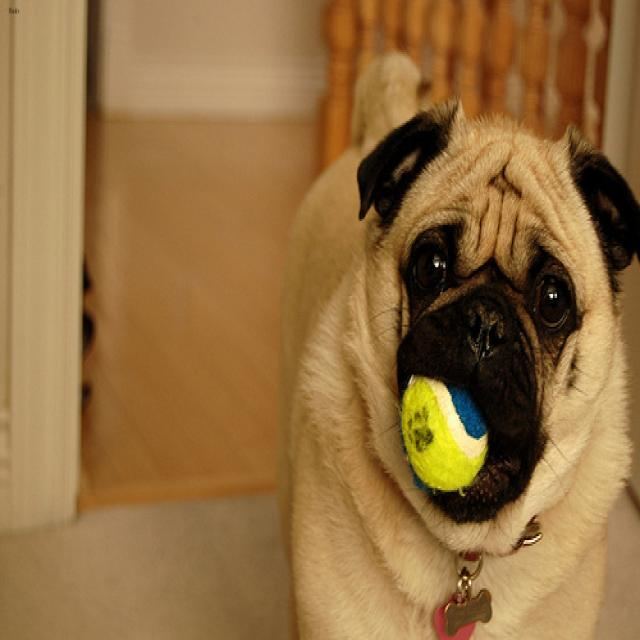dog-pug: (271, 44, 637, 636)
